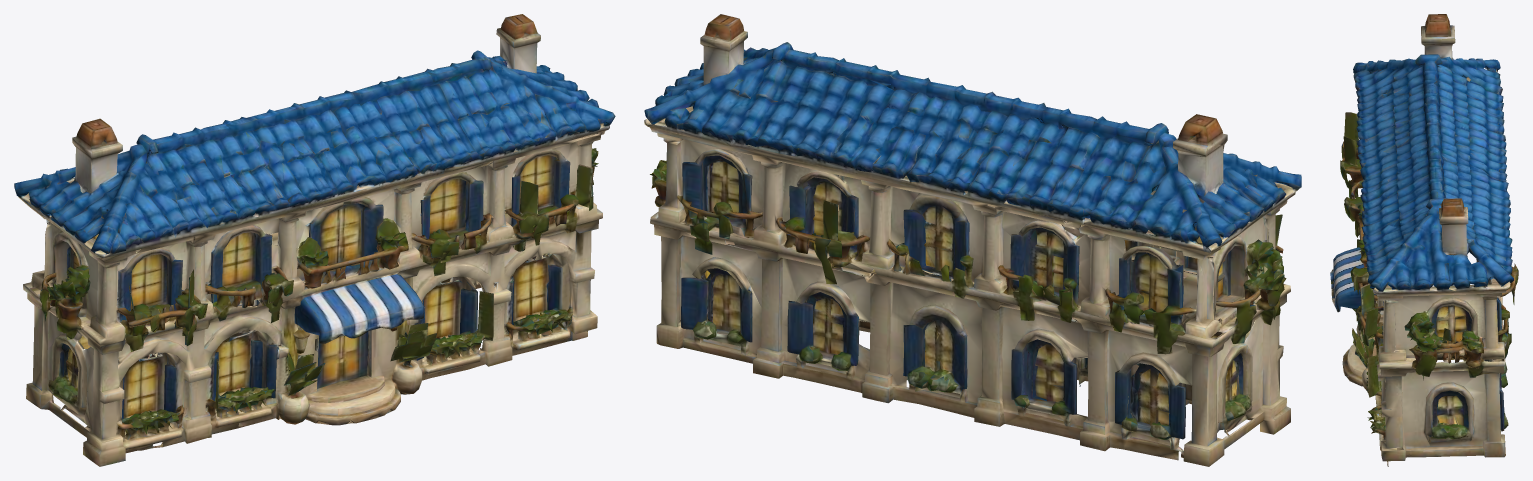
3 renders of one model, left to right at view 1: azimuth 30°, elevation 25°; view 2: azimuth 150°, elevation 25°; view 3: azimuth 270°, elevation 25°, orthographic. The views are drawn at different scales.
Visible parts, largest first — view 1: harbor__skyscraper_1__native_mobile; view 2: harbor__skyscraper_1__native_mobile; view 3: harbor__skyscraper_1__native_mobile.
Boxes of the visible parts, x1,y1,x2,y2 form: harbor__skyscraper_1__native_mobile: [14, 14, 615, 466]; harbor__skyscraper_1__native_mobile: [644, 14, 1301, 466]; harbor__skyscraper_1__native_mobile: [1330, 14, 1518, 466].
Size of the model in its own units: 1 by 0.5279 by 0.3452.
Materials: 1 (1 with a texture image).
